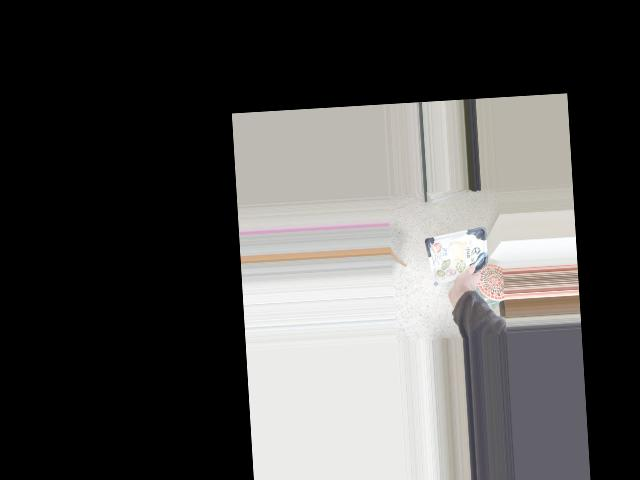cheese: (427, 243, 479, 295)
